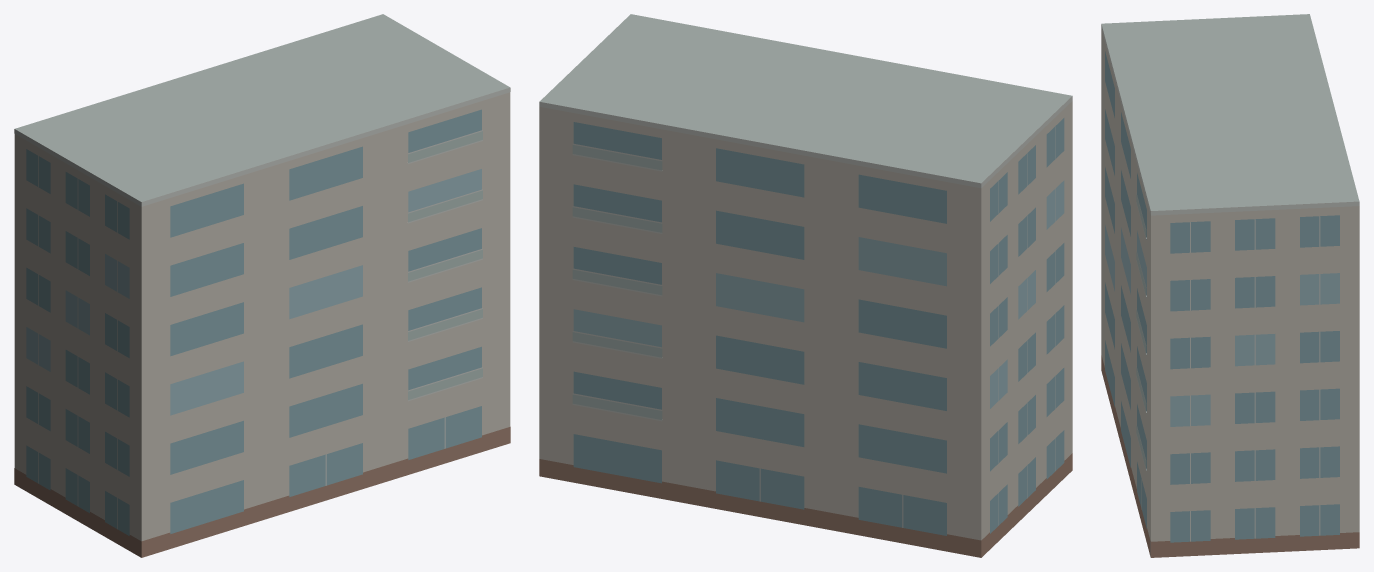
File: survey-upis-32882317.glb
3 renders of one model, left to right at view 1: azimuth 30°, elevation 25°; view 2: azimuth 150°, elevation 25°; view 3: azimuth 270°, elevation 25°, orthographic. The views are drawn at different scales.
Visible parts, largest first — view 1: survey-upis-32882317.tmp; view 2: survey-upis-32882317.tmp; view 3: survey-upis-32882317.tmp.
Part boxes in pixels (<box>): survey-upis-32882317.tmp: <box>14,14,510,557</box>; survey-upis-32882317.tmp: <box>539,14,1072,557</box>; survey-upis-32882317.tmp: <box>1101,14,1359,557</box>.
Bounding box in the file's own units: 22.5 × 18.45 × 12.46.
